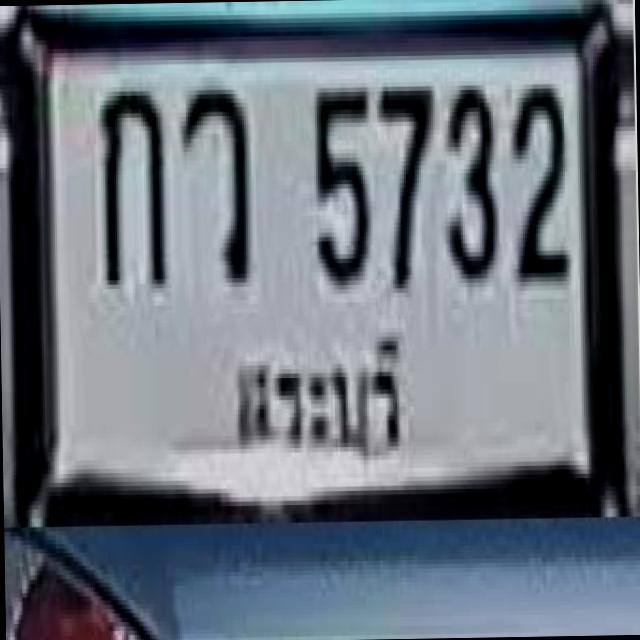license_plate: (14, 0, 629, 525)
